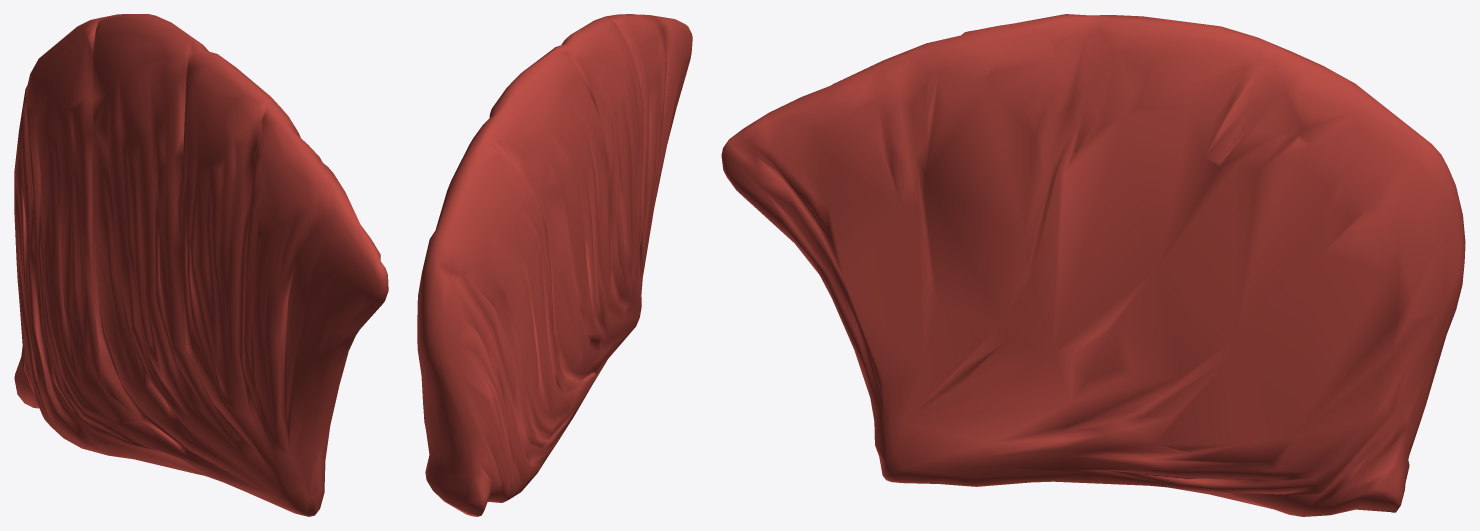
Rendered from musculos-genioglossus-muscle-r.glb.
The picture shows the model from 3 angles, left to right: view 1: azimuth 30°, elevation 25°; view 2: azimuth 150°, elevation 25°; view 3: azimuth 270°, elevation 25°; orthographic projection. The views are drawn at different scales.
Visible parts, largest first — view 1: Genioglossus muscle.r; view 2: Genioglossus muscle.r; view 3: Genioglossus muscle.r.
Part boxes in pixels (box(x1,y1,x2,y2)): Genioglossus muscle.r: box(14, 14, 388, 516); Genioglossus muscle.r: box(417, 14, 692, 516); Genioglossus muscle.r: box(721, 14, 1465, 516).
Size of the model in its own units: 0.00761 by 0.0361 by 0.0476.
